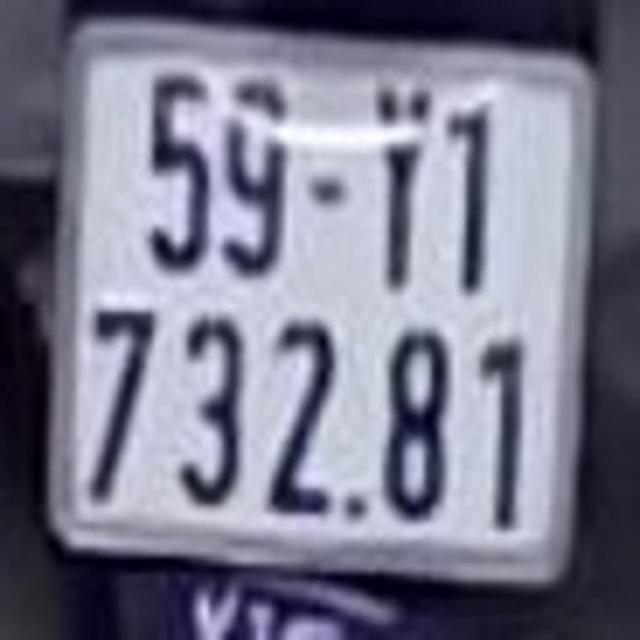1: (472, 330, 530, 532), (443, 89, 497, 298)
2: (264, 314, 337, 517), (380, 324, 450, 524)
3: (178, 308, 244, 508)
5: (145, 62, 210, 270)
7: (86, 304, 157, 507)
9: (221, 69, 286, 274)
Y: (366, 71, 432, 292)
